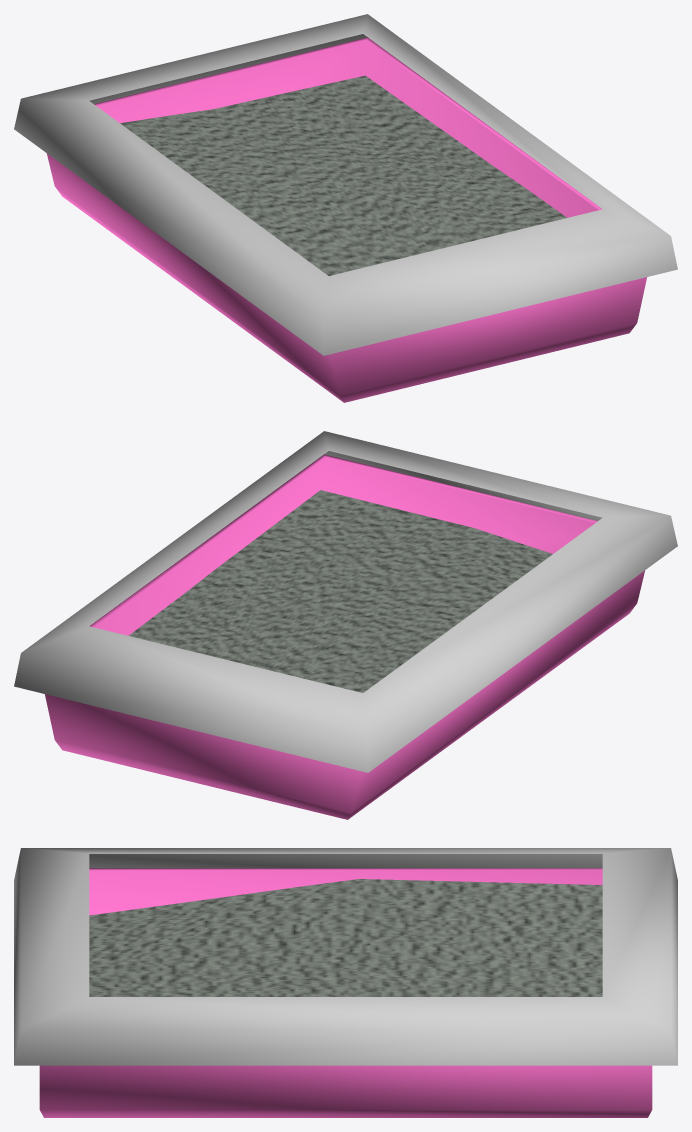
File: Kitty_Box_B.FBX
3 renders of one model, top to bottom at view 1: azimuth 30°, elevation 25°; view 2: azimuth 150°, elevation 25°; view 3: azimuth 270°, elevation 25°, orthographic. The views are drawn at different scales.
Visible parts, largest first — view 1: Kitty Box; view 2: Kitty Box; view 3: Kitty Box.
Part boxes in pixels (x1,y1,x2,y2): Kitty Box: (14,14,677,402); Kitty Box: (14,431,677,819); Kitty Box: (14,848,677,1117).
Bounding box in the file's own units: 107 × 32.85 × 163.
